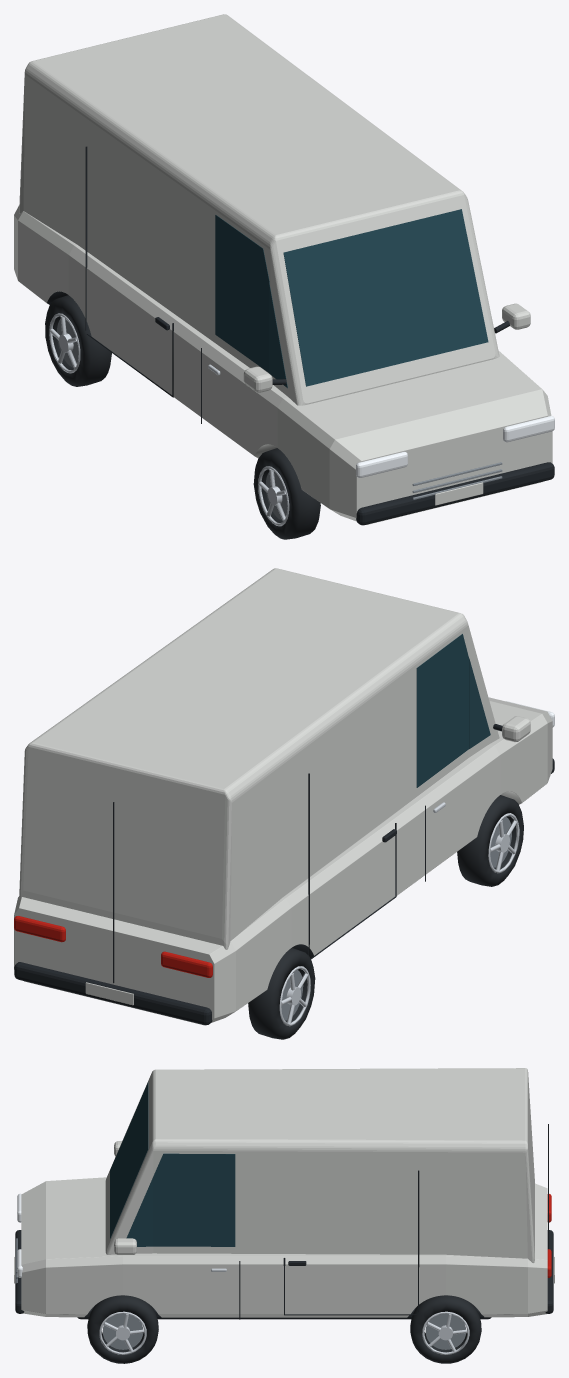
Rendered from DeliveryVan.fbx.
The picture shows the model from 3 angles, top to bottom: view 1: azimuth 30°, elevation 25°; view 2: azimuth 150°, elevation 25°; view 3: azimuth 270°, elevation 25°; orthographic projection. The views are drawn at different scales.
Visible parts, largest first — view 1: DeliveryVan, wheel1, wheel3; view 2: DeliveryVan, wheel3, wheel1; view 3: DeliveryVan, wheel2, wheel4.
Part boxes in pixels (bbox=[...]): DeliveryVan: bbox=[14, 14, 554, 525]; wheel1: bbox=[253, 448, 320, 539]; wheel3: bbox=[45, 295, 111, 386]; DeliveryVan: bbox=[14, 568, 554, 1025]; wheel3: bbox=[248, 948, 315, 1039]; wheel1: bbox=[457, 795, 523, 886]; DeliveryVan: bbox=[14, 1068, 554, 1349]; wheel2: bbox=[87, 1295, 158, 1363]; wheel4: bbox=[410, 1295, 481, 1363].
Size of the model in its own units: 248 by 242 by 545.
